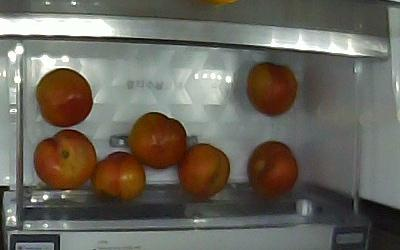prune: (34, 129, 97, 189), (36, 68, 93, 128), (128, 112, 186, 170), (247, 139, 297, 196), (178, 144, 230, 198), (92, 151, 147, 202), (247, 62, 298, 117)
